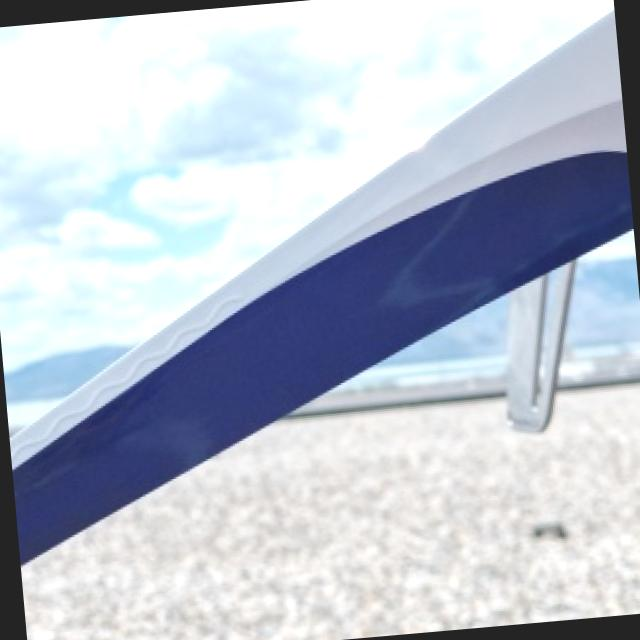healthy: (20, 382, 640, 640)
